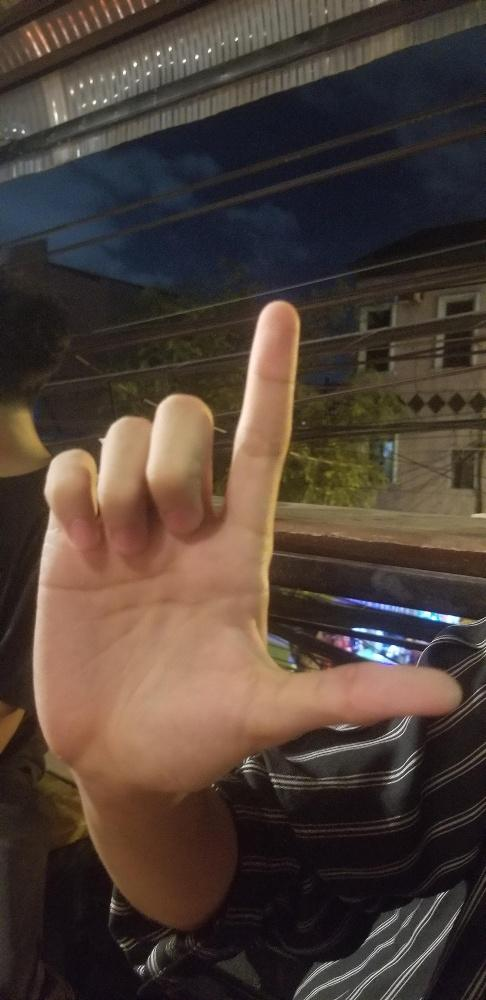l: (27, 296, 457, 778)
